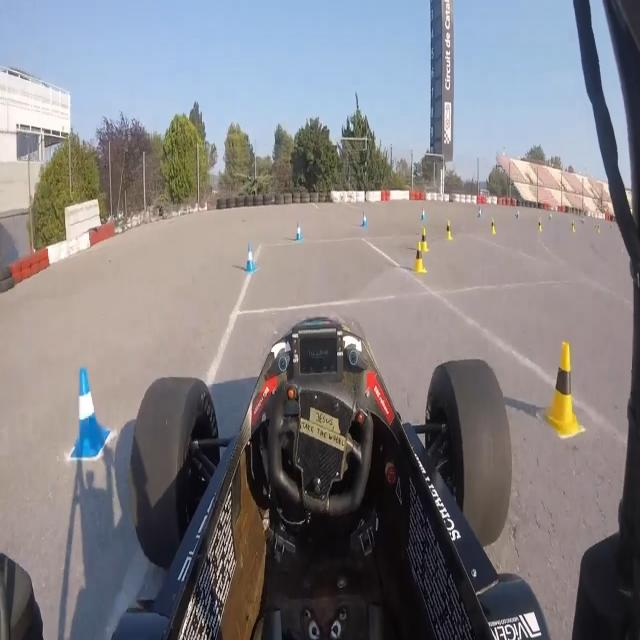blue_cone: (64, 369, 110, 467), (243, 242, 260, 274), (359, 209, 368, 228), (420, 206, 428, 222), (296, 223, 302, 243), (478, 205, 484, 221), (516, 210, 520, 219)
yellow_cone: (540, 339, 583, 443), (412, 242, 425, 276), (420, 228, 431, 252), (444, 217, 452, 240), (490, 216, 498, 236), (537, 218, 543, 234), (571, 218, 576, 234)
